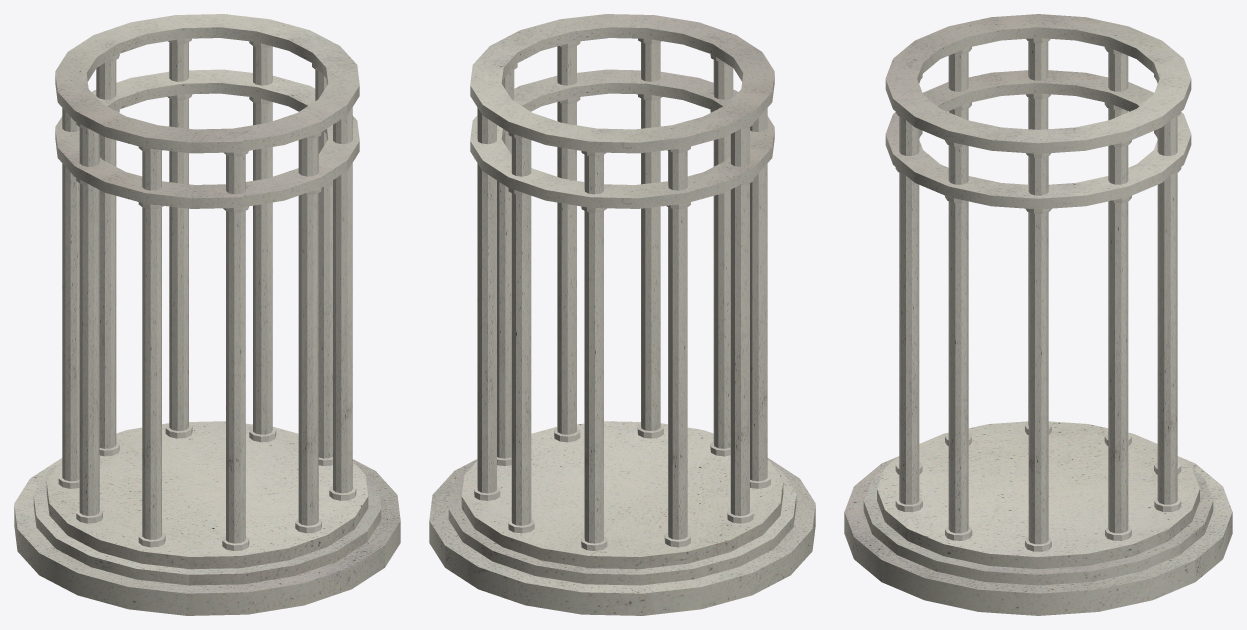
The model's file is olympus_round.fbx.
3 renders of one model, left to right at view 1: azimuth 30°, elevation 25°; view 2: azimuth 150°, elevation 25°; view 3: azimuth 270°, elevation 25°, orthographic.
Parts seen in each view (by area): view 1: group62; view 2: group62; view 3: group62.
Boxes of the visible parts, x1,y1,x2,y2 form: group62: (14, 14, 400, 615); group62: (429, 14, 815, 615); group62: (844, 14, 1232, 615).
Size of the model in its own units: 26.97 by 34.92 by 26.97.
Materials: 1 (1 with a texture image).
